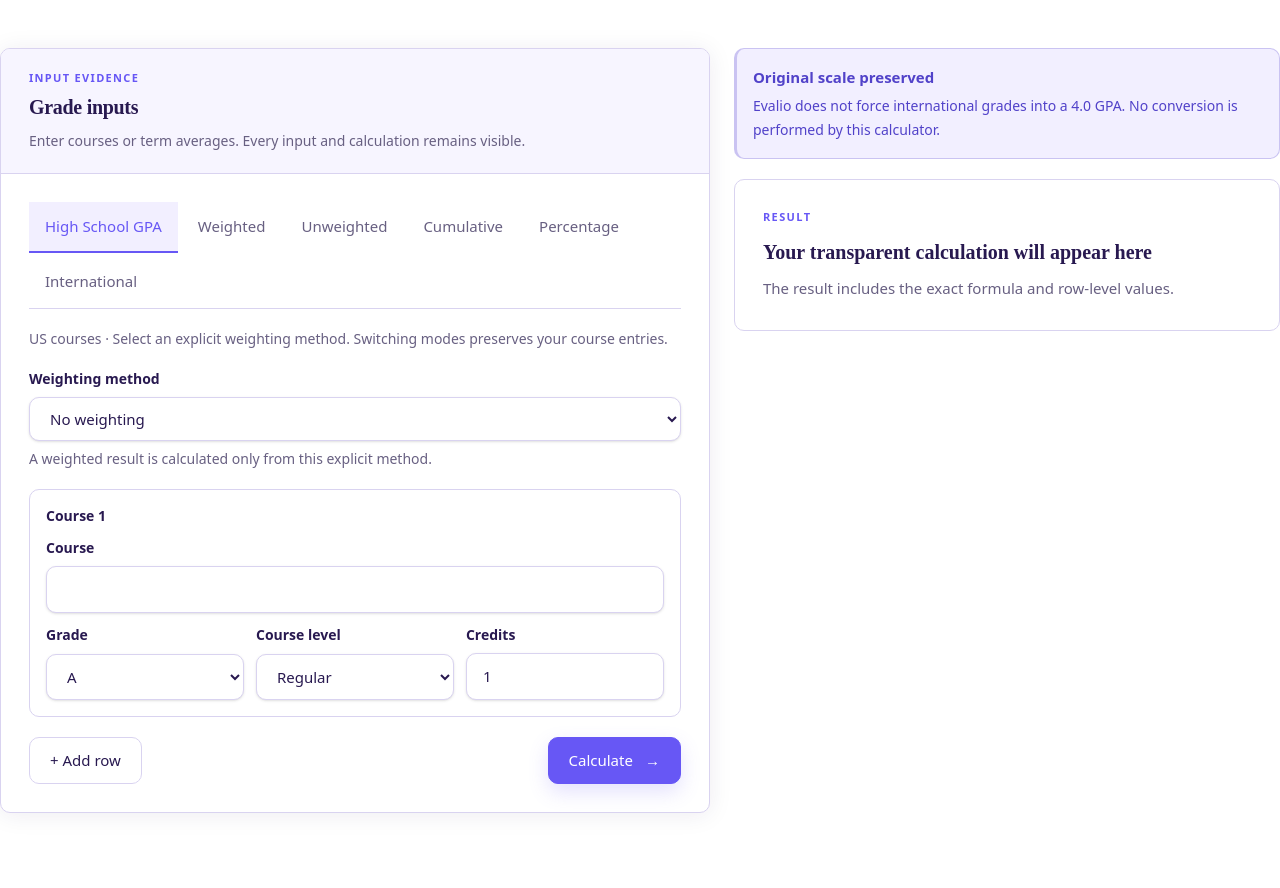
GPA Toolkit T4 › exposes custom offsets instead of assuming a universal scale
Select "Custom course-level offsets" in the dropdown labelled "Weighting method" at (355, 419), box [29,397,681,441]
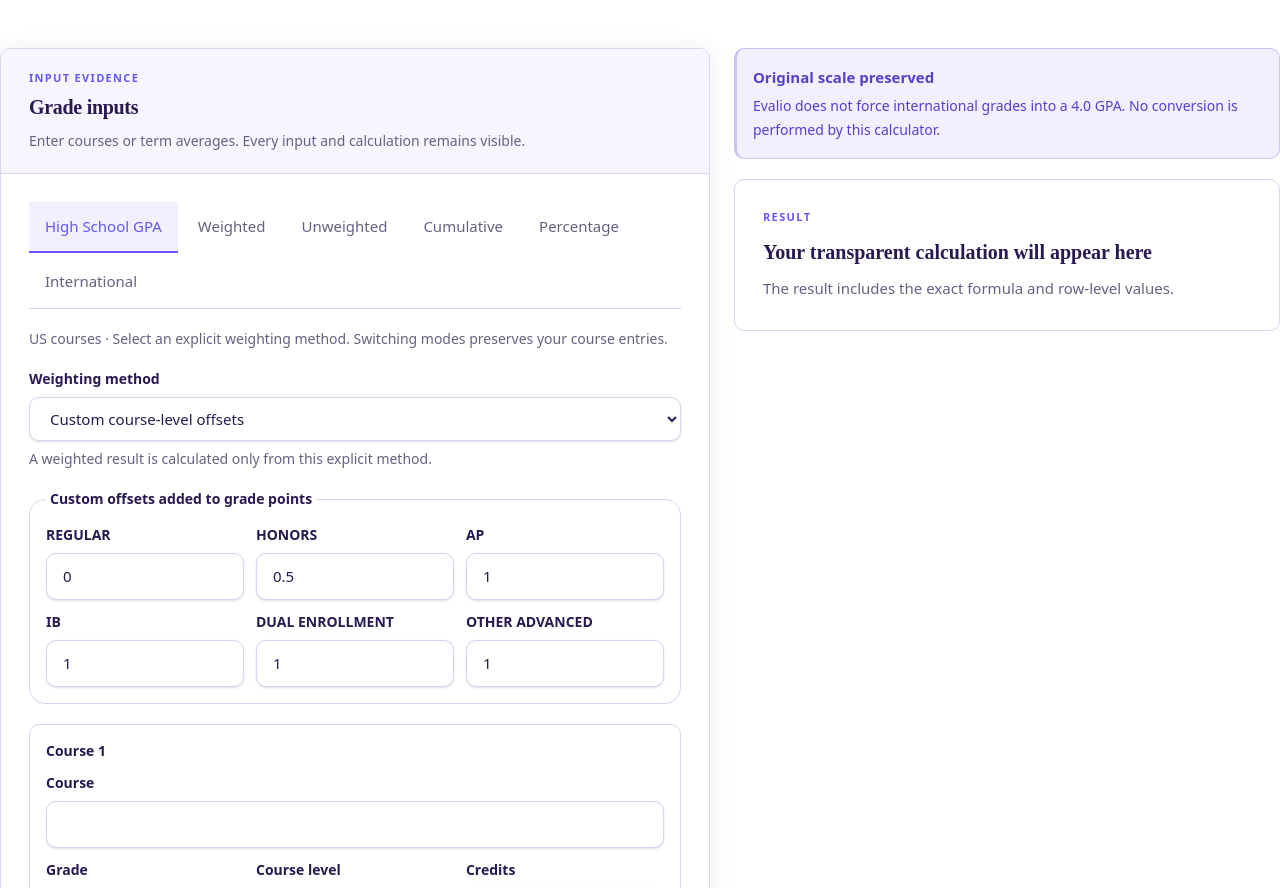
Check: the element "Custom offsets" is shown, box [29,489,681,704]
Check: the number field labelled "HONORS" holds "0.5", box [256,553,454,600]
